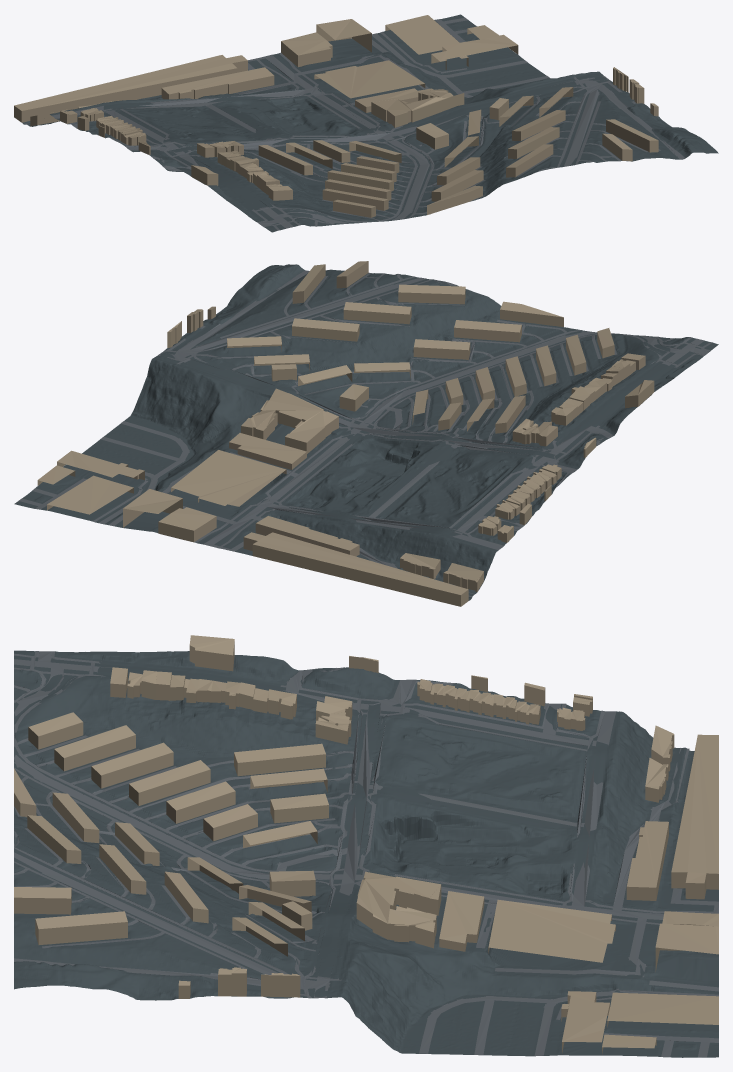
File: epsg26910-1440-10881.lod0.glb
The picture shows the model from 3 angles, top to bottom: view 1: azimuth 30°, elevation 25°; view 2: azimuth 150°, elevation 25°; view 3: azimuth 270°, elevation 25°; orthographic projection. The views are drawn at different scales.
Parts seen in each view (by area): view 1: epsg26910-1440-10881-lod0; view 2: epsg26910-1440-10881-lod0; view 3: epsg26910-1440-10881-lod0.
Boxes of the visible parts, <box> form: epsg26910-1440-10881-lod0: <box>14,14,718,232</box>; epsg26910-1440-10881-lod0: <box>14,261,718,606</box>; epsg26910-1440-10881-lod0: <box>14,635,718,1057</box>.
Bounding box in the file's own units: 384 × 74.97 × 384.
